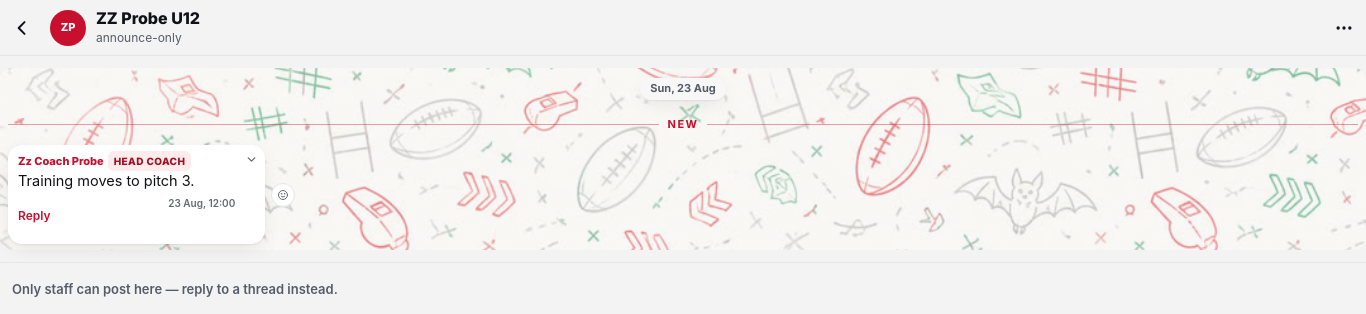
Chat — staff channel › a parent's Chat options holds ONLY the wallpaper — nothing staff-shaped
The image size is (1366, 314).
Check: the element with test id "message-row" is shown, box [8,145,295,244]
Click the button named "Chat options": [1344, 28] box [1326,10,1362,46]
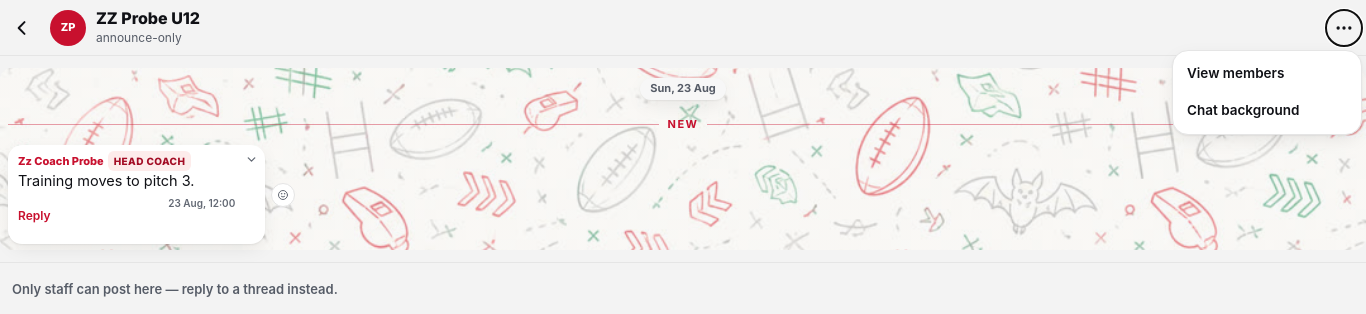
Check: the menu items read "View members", "Chat background", in this order, box [1173,55,1361,92]; [1173,92,1361,130]
